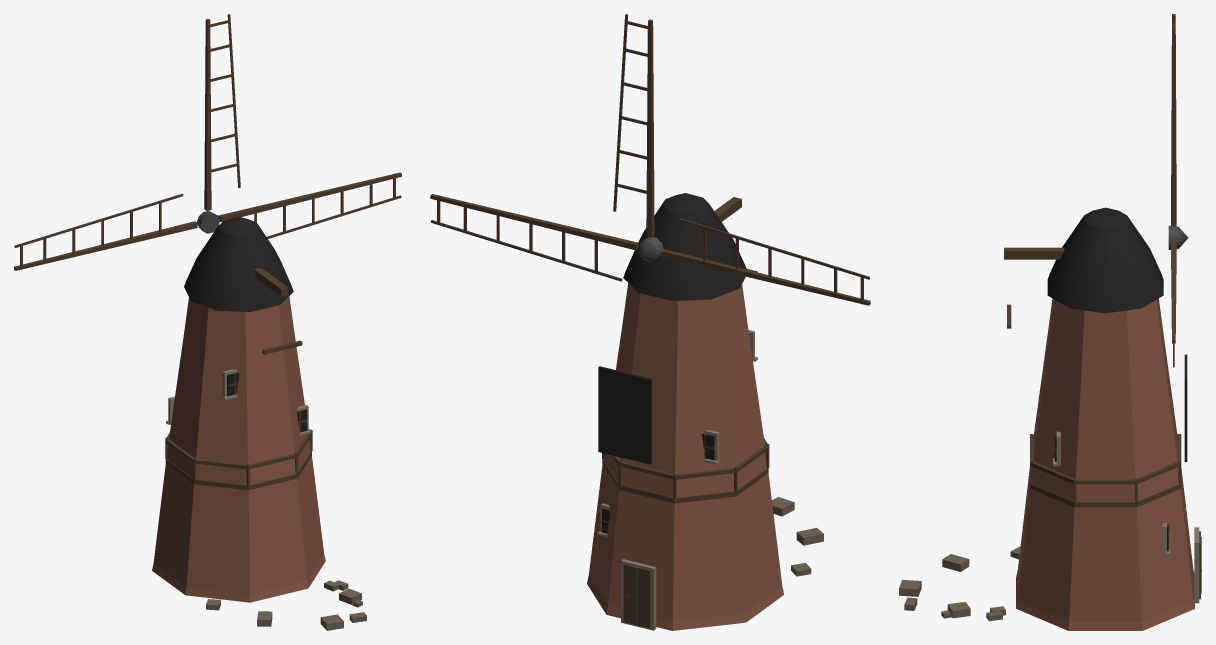
File: windmill_damaged.glb
3 views of the same model, side by side, from view 1: azimuth 30°, elevation 25°; view 2: azimuth 150°, elevation 25°; view 3: azimuth 270°, elevation 25° (orthographic). The views are drawn at different scales.
Visible parts, largest first — view 1: windmill_damaged, sails; view 2: windmill_damaged, sails; view 3: windmill_damaged, sails.
Boxes of the visible parts, bbox=[...] form: windmill_damaged: bbox=[152, 217, 366, 630]; sails: bbox=[14, 14, 401, 270]; windmill_damaged: bbox=[587, 193, 823, 630]; sails: bbox=[430, 14, 870, 305]; windmill_damaged: bbox=[899, 207, 1201, 630]; sails: bbox=[1168, 14, 1188, 367].
Bounding box in the file's own units: 18.41 × 23.94 × 11.32.
